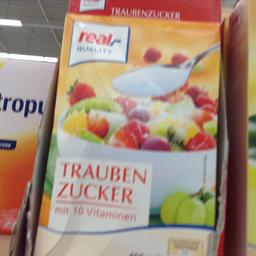sugar: (30, 1, 220, 255)
